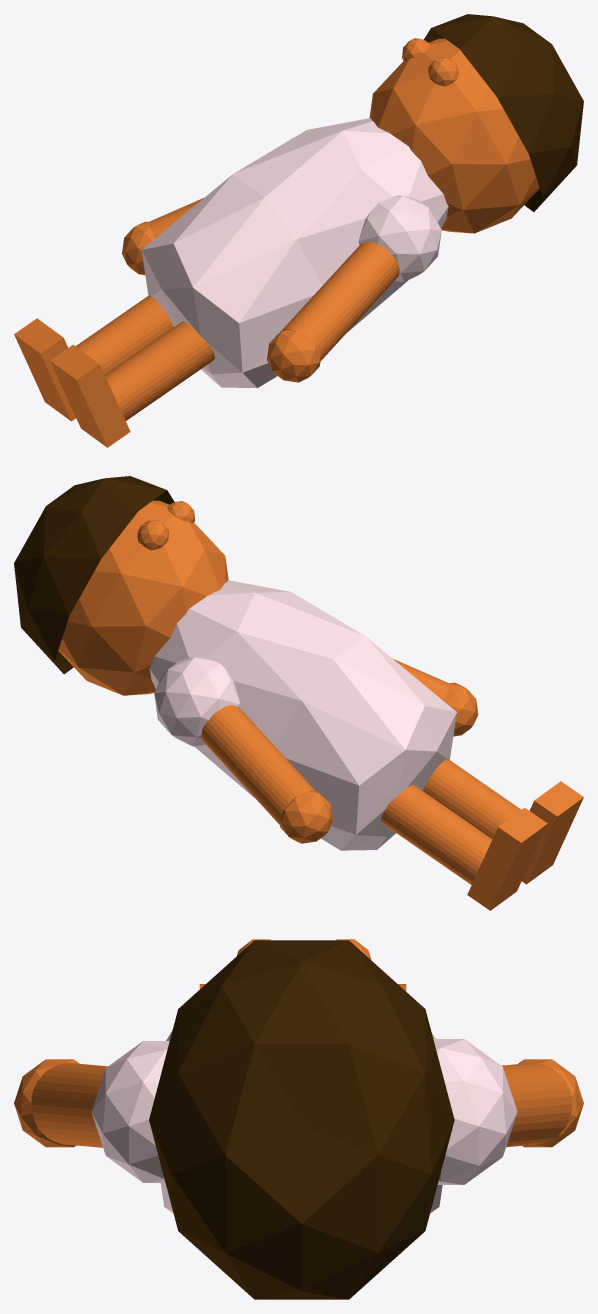
Rendered from personER.fbx.
The picture shows the model from 3 angles, top to bottom: view 1: azimuth 30°, elevation 25°; view 2: azimuth 150°, elevation 25°; view 3: azimuth 270°, elevation 25°; orthographic projection. The views are drawn at different scales.
Parts seen in each view (by area): view 1: Icosphere, Icosphere.001, Icosphere.009, Cylinder.001, Cylinder.003, Icosphere.005, Cube.001, Cylinder.002, Cube, Icosphere.007, Icosphere.006, Icosphere.003 (+1 smaller); view 2: Icosphere, Icosphere.001, Icosphere.009, Cylinder, Cylinder.002, Icosphere.004, Cube, Cylinder.003, Cube.001, Icosphere.006, Icosphere.007, Icosphere.002 (+1 smaller); view 3: Icosphere.009, Icosphere.004, Icosphere.005, Cylinder.001, Cylinder, Icosphere.007, Icosphere.006.
Part boxes in pixels (bbox=[...]): Icosphere: bbox=[141, 118, 448, 388]; Icosphere.001: bbox=[369, 38, 539, 233]; Icosphere.009: bbox=[424, 14, 583, 211]; Cylinder.001: bbox=[280, 241, 399, 361]; Cylinder.003: bbox=[105, 321, 214, 420]; Icosphere.005: bbox=[358, 195, 441, 282]; Cube.001: bbox=[50, 345, 130, 447]; Cylinder.002: bbox=[75, 295, 173, 374]; Cube: bbox=[14, 318, 75, 421]; Icosphere.007: bbox=[267, 329, 321, 382]; Icosphere.006: bbox=[122, 221, 155, 274]; Icosphere.003: bbox=[428, 57, 458, 86]; Icosphere: bbox=[149, 580, 456, 850]; Icosphere.001: bbox=[58, 500, 228, 695]; Icosphere.009: bbox=[14, 476, 174, 674]; Cylinder: bbox=[201, 705, 316, 824]; Cylinder.002: bbox=[381, 785, 492, 884]; Icosphere.004: bbox=[154, 656, 240, 746]; Cube: bbox=[467, 807, 547, 910]; Cylinder.003: bbox=[423, 759, 531, 865]; Cube.001: bbox=[522, 781, 583, 884]; Icosphere.006: bbox=[280, 790, 333, 843]; Icosphere.007: bbox=[444, 682, 478, 736]; Icosphere.002: bbox=[137, 519, 168, 550]; Icosphere.009: bbox=[149, 940, 454, 1299]; Icosphere.004: bbox=[433, 1039, 517, 1184]; Icosphere.005: bbox=[91, 1041, 169, 1182]; Cylinder.001: bbox=[31, 1063, 107, 1147]; Cylinder: bbox=[501, 1063, 572, 1147]; Icosphere.007: bbox=[14, 1059, 79, 1147]; Icosphere.006: bbox=[518, 1059, 583, 1147].
Bounding box in the file's own units: 282 × 156 × 159.
